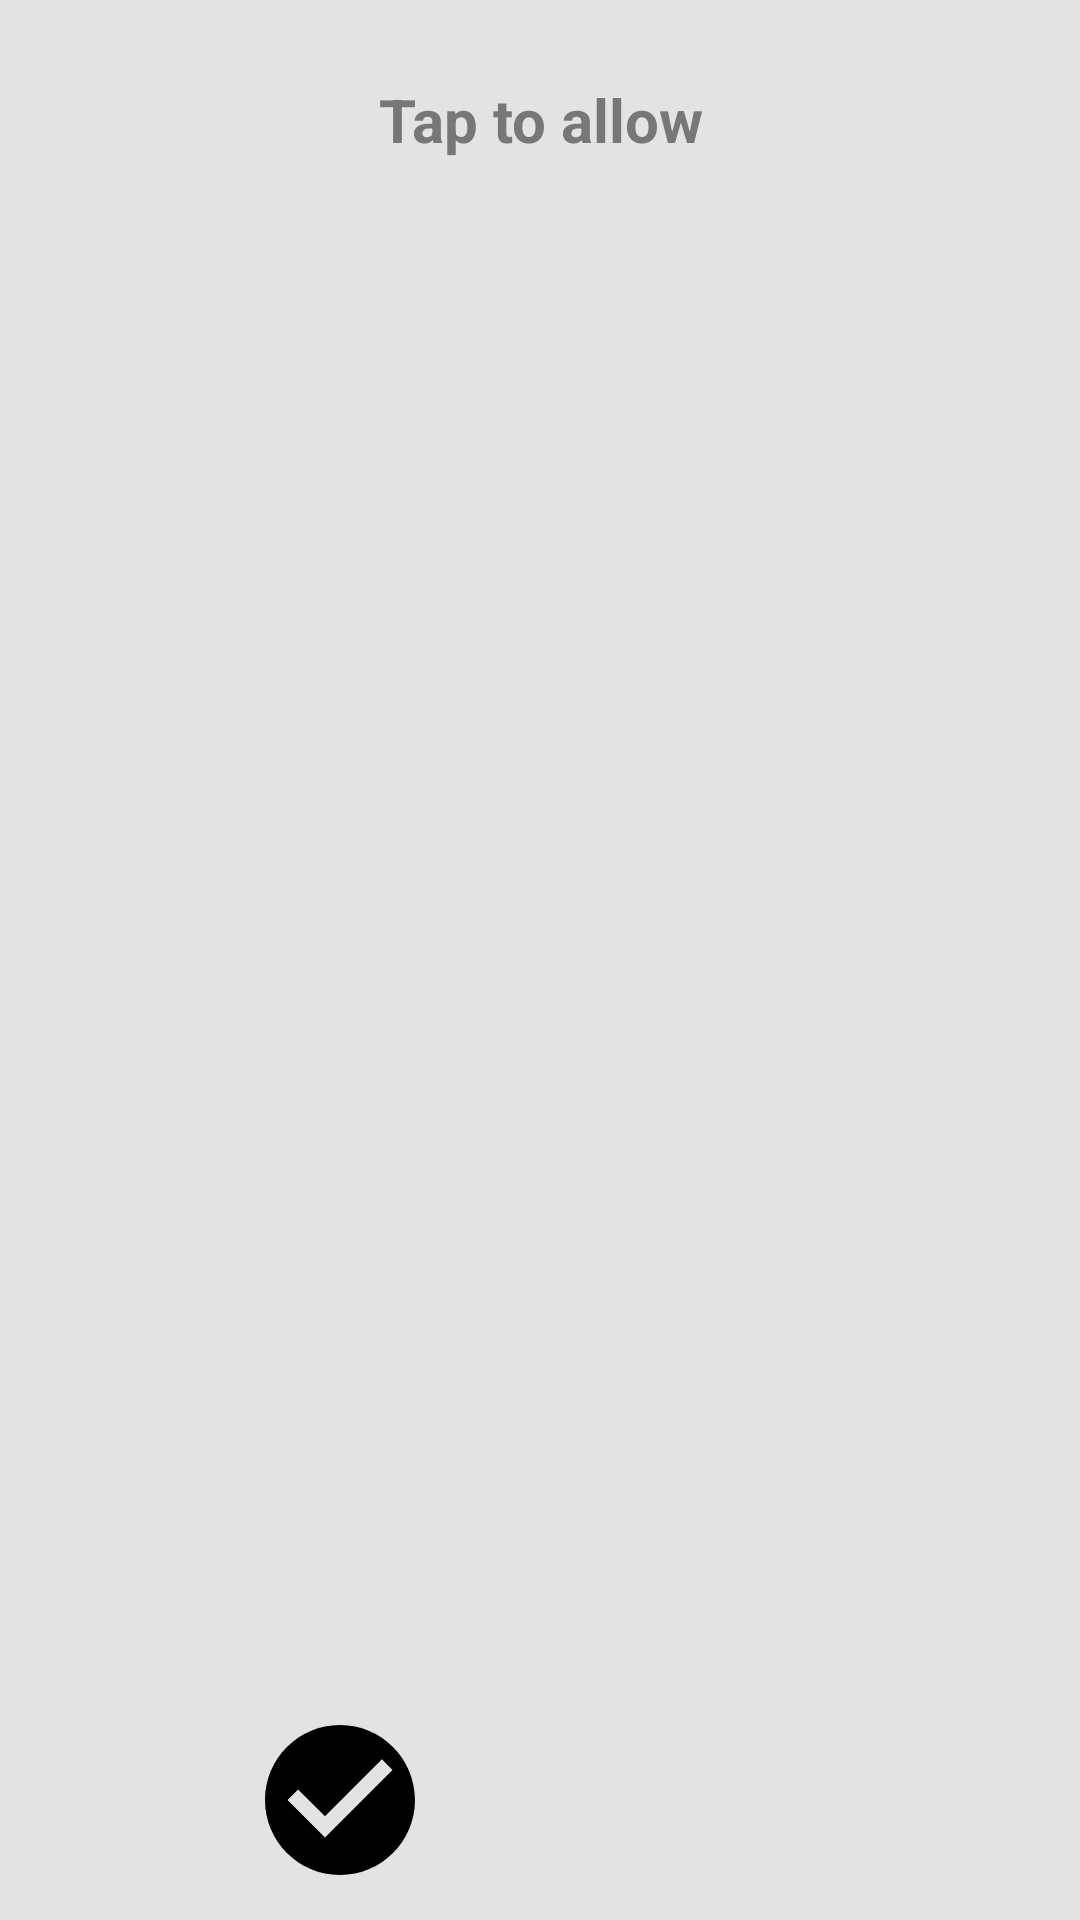

Where to tap for icons on this 1080 × 1920 app screen, as point (x, y):
Confirm block: point (340, 1800)
